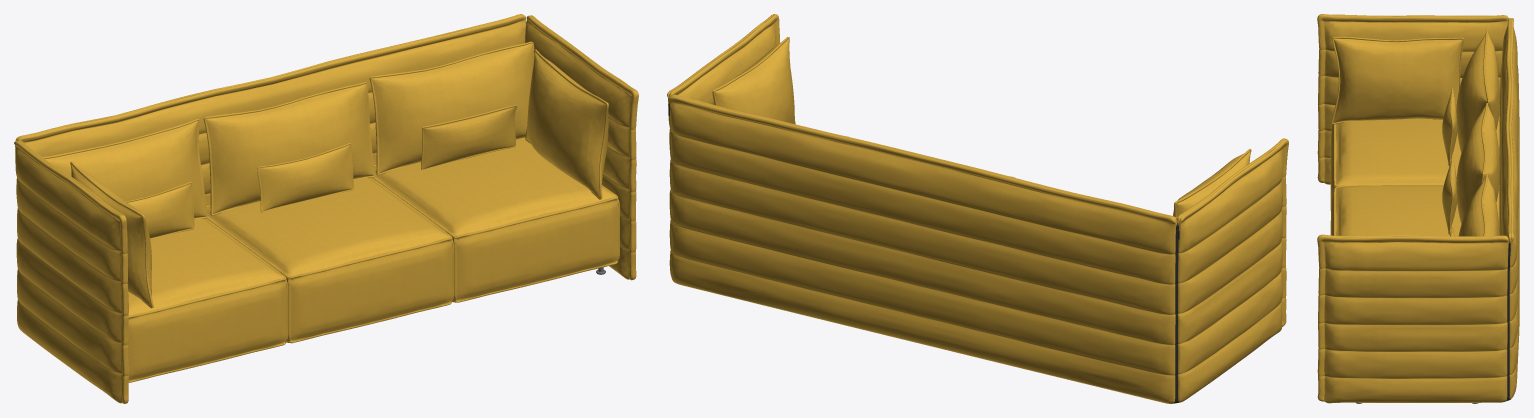
The picture shows the model from 3 angles, left to right: view 1: azimuth 30°, elevation 25°; view 2: azimuth 150°, elevation 25°; view 3: azimuth 270°, elevation 25°; orthographic projection. The views are drawn at different scales.
Parts seen in each view (by area): view 1: 3DSMeshMatrix (×14); view 2: 3DSMeshMatrix (×6); view 3: 3DSMeshMatrix (×12).
Boxes of the visible parts, x1,y1,x2,y2 form: 3DSMeshMatrix (×14): (14,14,638,403); 3DSMeshMatrix (×6): (667,14,1288,403); 3DSMeshMatrix (×12): (1317,14,1519,403).
Bounding box in the file's own units: 2353 × 833 × 885.
4 materials, 3 textured.
